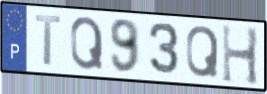3: (146, 21, 182, 77)
9: (108, 17, 143, 76)
H: (221, 22, 261, 87)
Q: (69, 15, 106, 72), (185, 24, 221, 80)
T: (33, 14, 63, 68)
